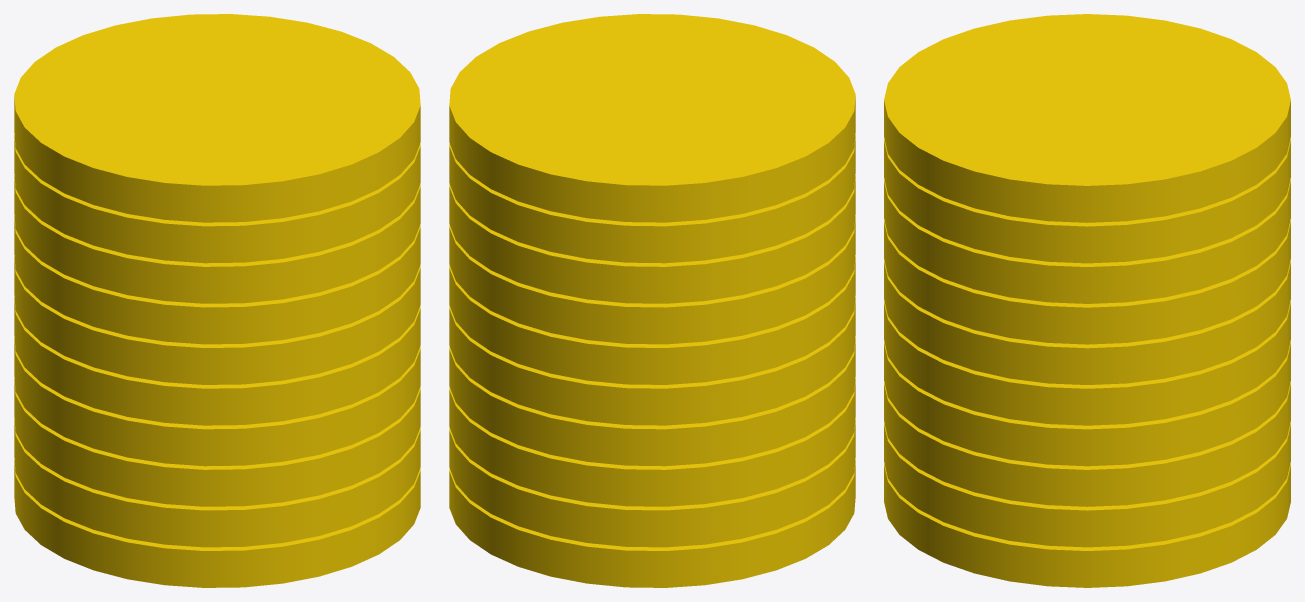
File: coin_stack.glb
The picture shows the model from 3 angles, left to right: view 1: azimuth 30°, elevation 25°; view 2: azimuth 150°, elevation 25°; view 3: azimuth 270°, elevation 25°; orthographic projection.
Size of the model in its own units: 1 by 1.09 by 1.
